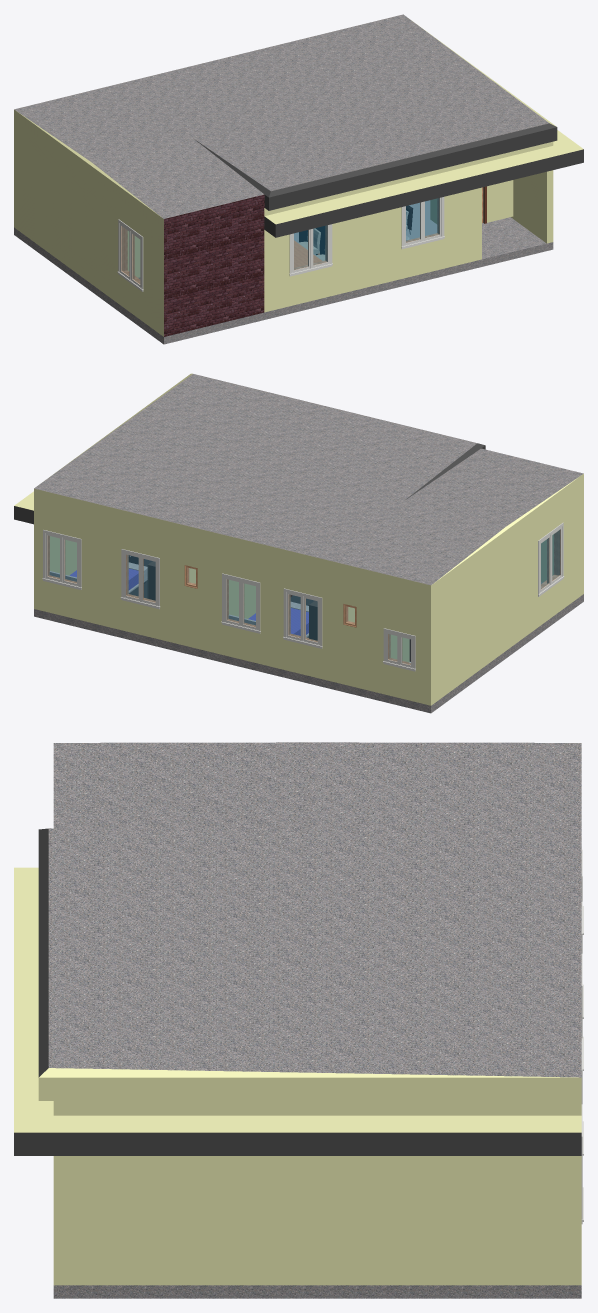
Rendered from Design_1_elevation.glb.
The picture shows the model from 3 angles, top to bottom: view 1: azimuth 30°, elevation 25°; view 2: azimuth 150°, elevation 25°; view 3: azimuth 270°, elevation 25°; orthographic projection. The views are drawn at different scales.
Parts seen in each view (by area): view 1: Generic - 400mm.127, Generic - 200mm.6, Generic - 200mm.24, Generic - 200mm.3, Generic - 400mm.128, Insitu Concrete 225mm.107, Generic - 200mm.4, 1200 x 1500mm.115, 1200 x 1500mm.116, 1200 x 1500mm.117, Generic - 100mm.21, Flooring_Tiles_Roca_Marble-Atenas-Pe-Marble-Atenas-Blanco-Po (+1 smaller); view 2: Generic - 400mm.127, Generic - 200mm.5, Generic - 200mm.6, Insitu Concrete 225mm.107, 1050 x 1350mm.119, 1050 x 1350mm.121, 1050 x 1350mm.122, 1050 x 1350mm.120, Generic - 200mm.4, 1200 x 1500mm.117, 850 x 900mm.118, Generic - 100mm.14 (+5 smaller); view 3: Generic - 400mm.127, Generic - 200mm.4, Generic - 400mm.128, Insitu Concrete 225mm.107.
Part boxes in pixels (x1,y1,x2,y2): Generic - 400mm.127: [14, 14, 557, 232]; Generic - 200mm.6: [17, 126, 170, 336]; Generic - 200mm.24: [264, 159, 481, 312]; Generic - 200mm.3: [170, 209, 261, 335]; Generic - 400mm.128: [264, 130, 583, 237]; Insitu Concrete 225mm.107: [14, 217, 553, 344]; Generic - 200mm.4: [511, 141, 553, 243]; 1200 x 1500mm.115: [292, 224, 330, 273]; 1200 x 1500mm.116: [404, 197, 442, 245]; 1200 x 1500mm.117: [119, 222, 141, 288]; Generic - 100mm.21: [483, 180, 513, 223]; Flooring_Tiles_Roca_Marble-Atenas-Pe-Marble-Atenas-Blanco-Po: [294, 200, 437, 255]; Generic - 400mm.127: [34, 373, 583, 598]; Generic - 200mm.5: [40, 504, 434, 705]; Generic - 200mm.6: [435, 487, 583, 702]; Insitu Concrete 225mm.107: [34, 594, 583, 713]; 1050 x 1350mm.119: [285, 591, 319, 645]; 1050 x 1350mm.121: [123, 551, 157, 605]; 1050 x 1350mm.122: [45, 532, 79, 586]; 1050 x 1350mm.120: [224, 576, 258, 630]; Generic - 200mm.4: [34, 502, 76, 610]; 1200 x 1500mm.117: [540, 526, 562, 592]; 850 x 900mm.118: [385, 631, 413, 668]; Generic - 100mm.14: [229, 580, 255, 618]; Generic - 400mm.127: [38, 742, 581, 1100]; Generic - 200mm.4: [53, 1101, 581, 1285]; Generic - 400mm.128: [14, 867, 581, 1155]; Insitu Concrete 225mm.107: [53, 1285, 581, 1298].
Size of the model in its own units: 42.06 by 12.59 by 28.75.
Materials: 117 (30 with a texture image).
